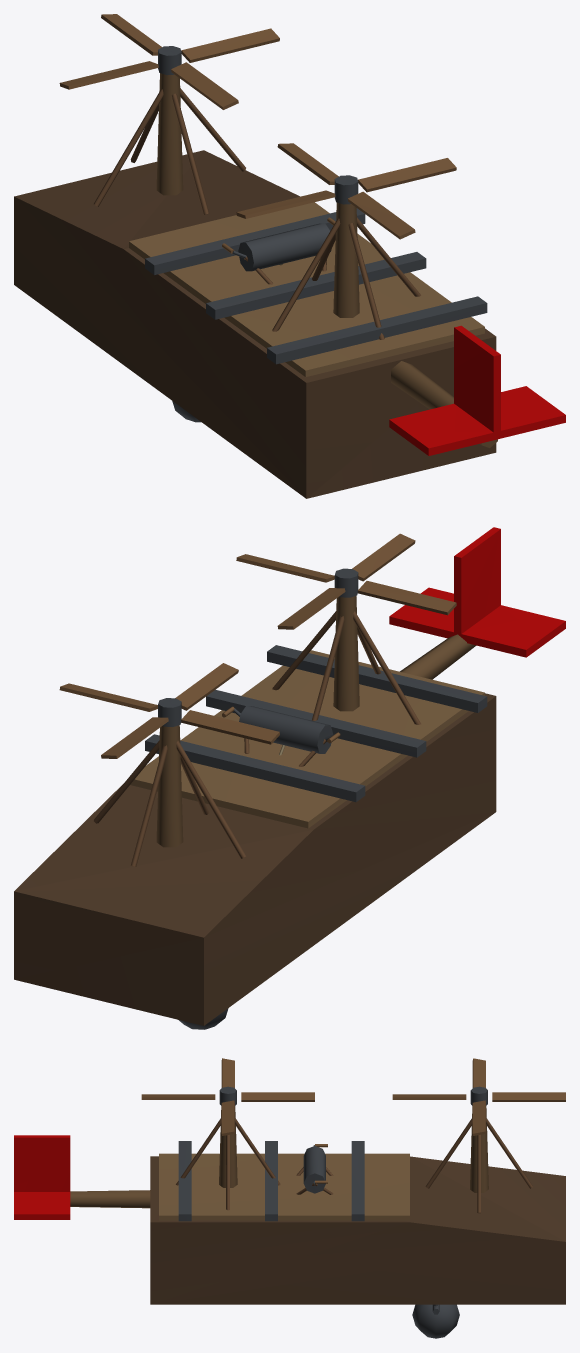
The model's file is bombardier.glb.
3 views of the same model, one above another, from view 1: azimuth 30°, elevation 25°; view 2: azimuth 150°, elevation 25°; view 3: azimuth 270°, elevation 25° (orthographic). The views are drawn at different scales.
Parts seen in each view (by area): view 1: bombardier-body, propeller-aft, propeller-fore; view 2: bombardier-body, propeller-aft, propeller-fore; view 3: bombardier-body, propeller-fore, propeller-aft.
Part boxes in pixels (x1,y1,x2,y2): bombardier-body: (14, 73, 565, 498); propeller-aft: (236, 143, 456, 239); propeller-fore: (59, 14, 279, 109); bombardier-body: (14, 527, 565, 1029); propeller-aft: (236, 533, 456, 629); propeller-fore: (59, 663, 279, 758); bombardier-body: (14, 1106, 565, 1338); propeller-fore: (392, 1058, 565, 1135); propeller-aft: (141, 1058, 314, 1135).
Size of the model in its own units: 0.4 by 0.6275 by 1.28.
